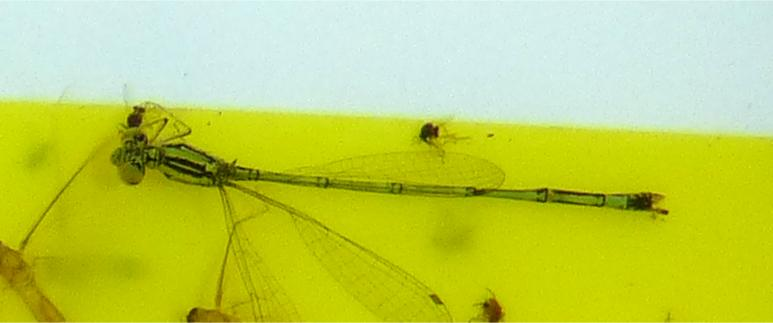Brachycera: (415, 119, 456, 157), (118, 100, 149, 128)
Nematocera: (471, 294, 503, 323)
Odonata: (100, 122, 673, 223)
